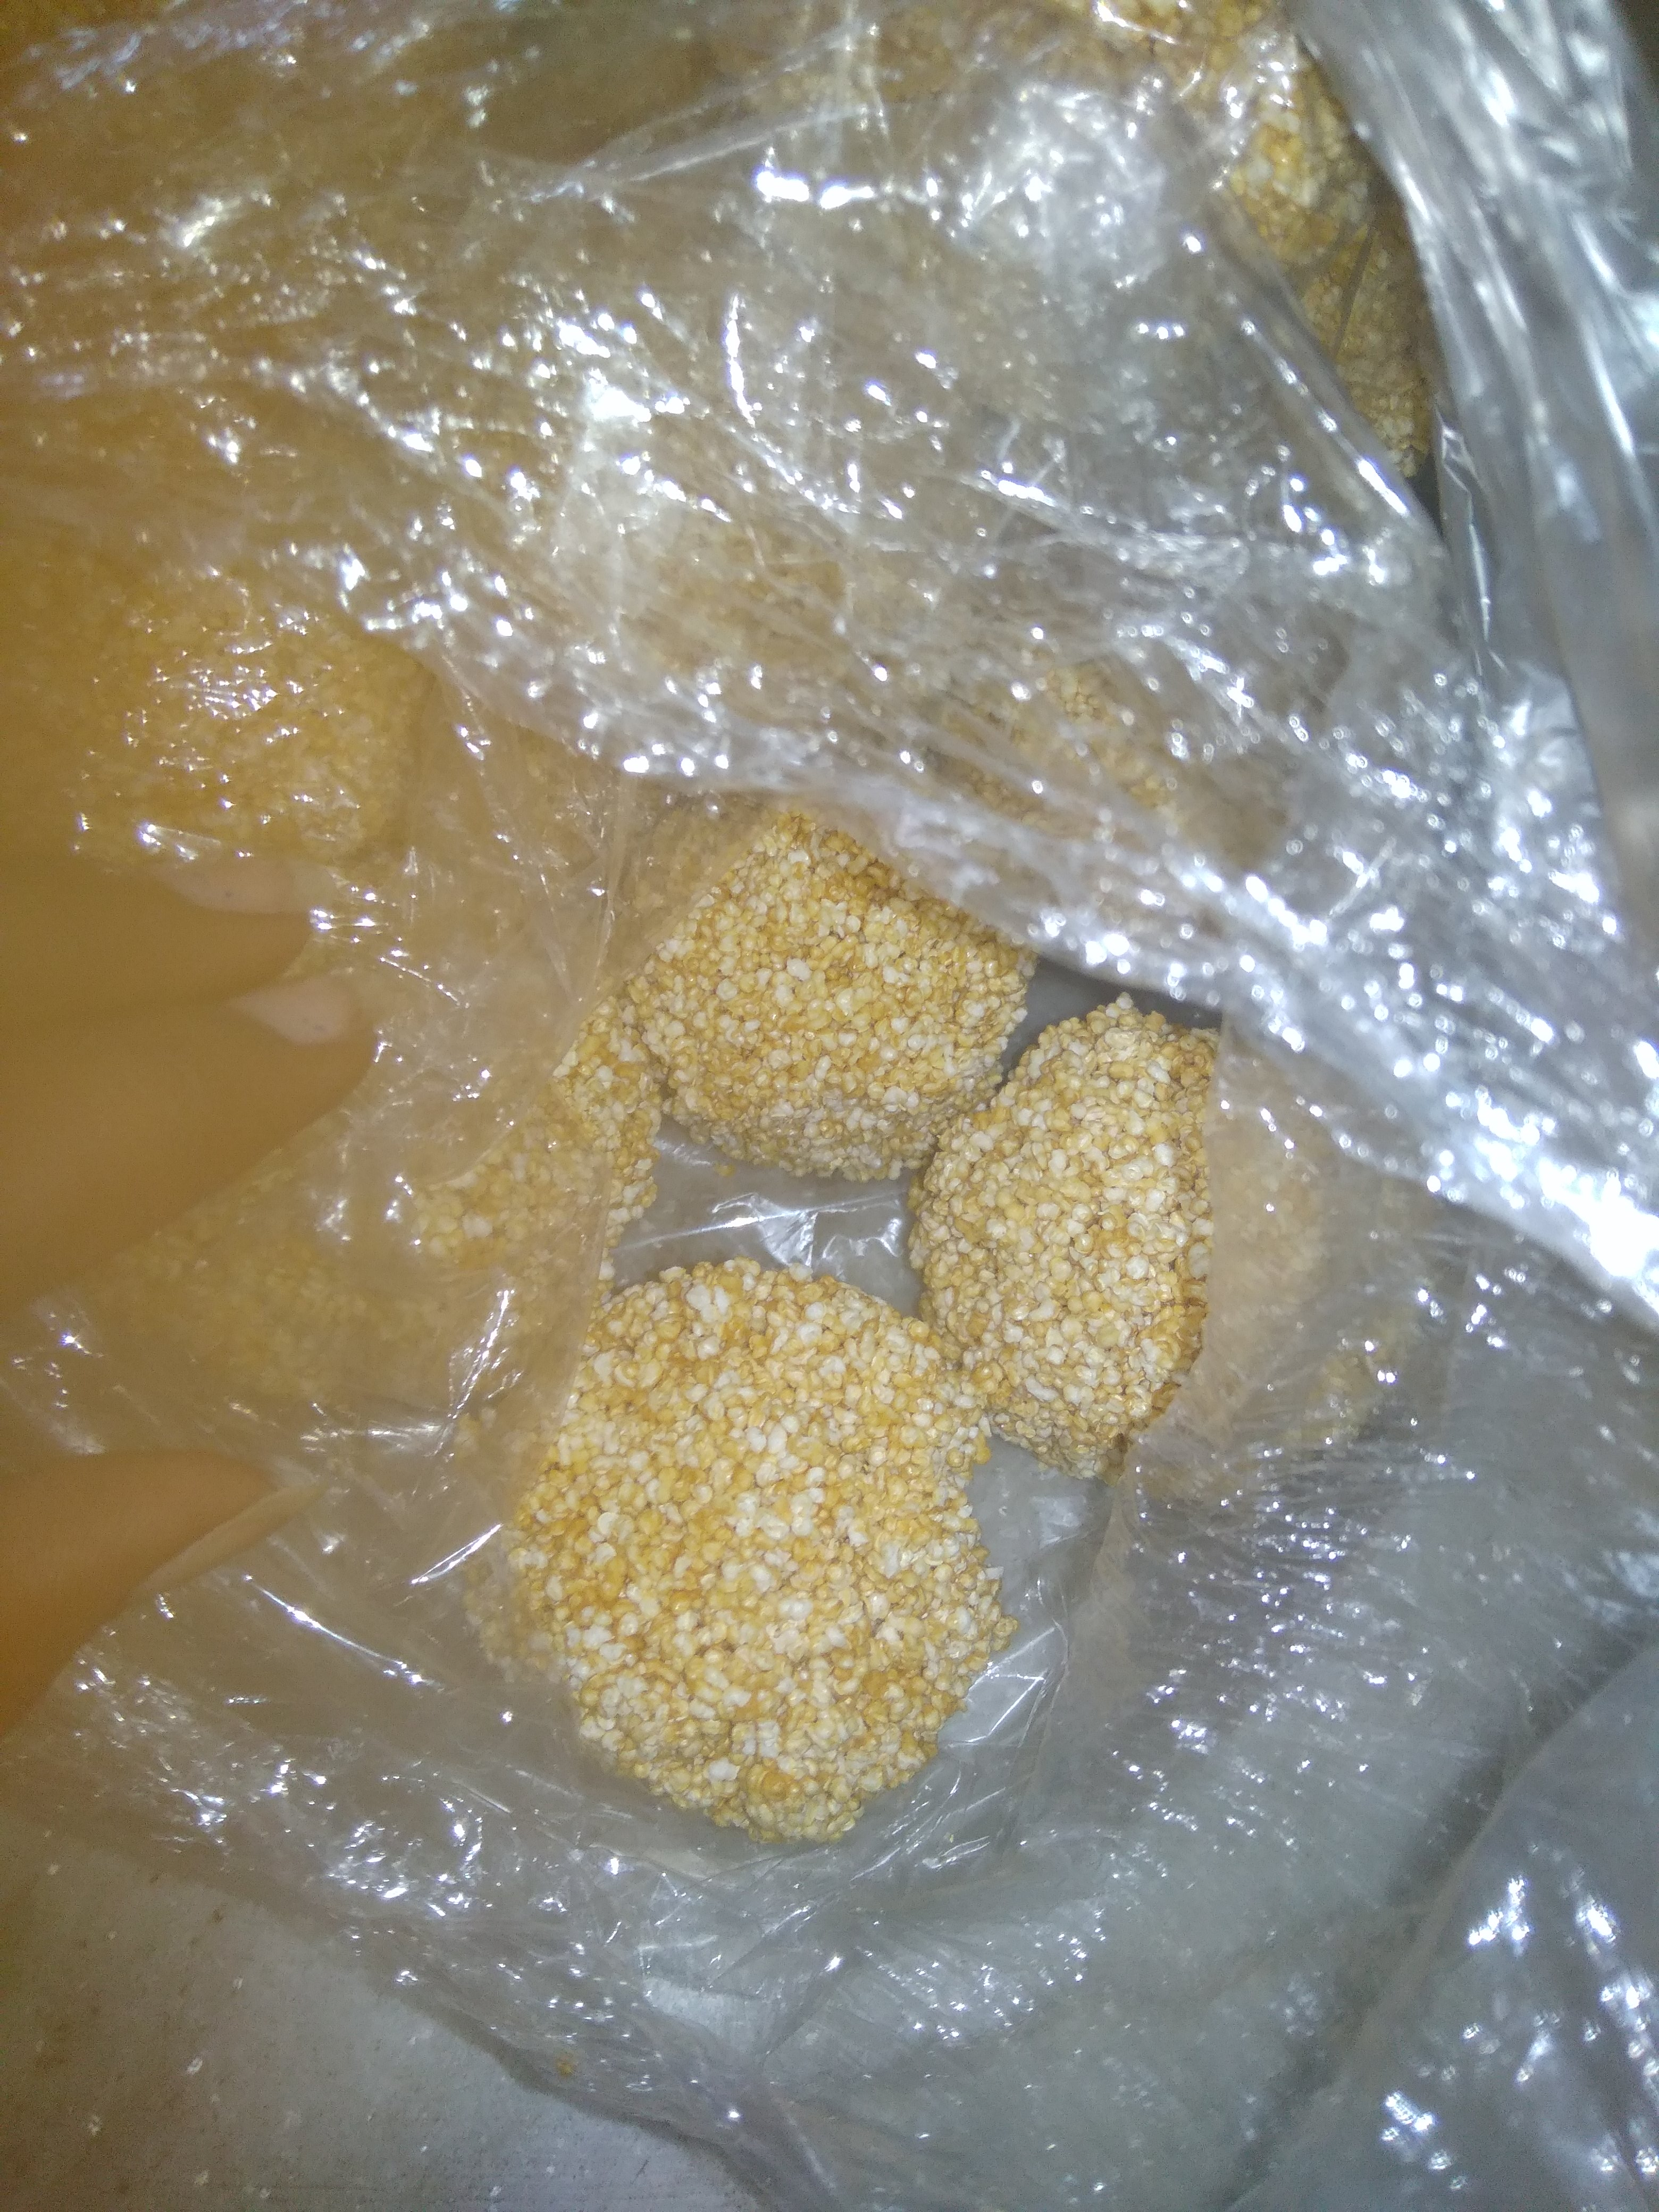food: (0, 0, 1446, 1855)
